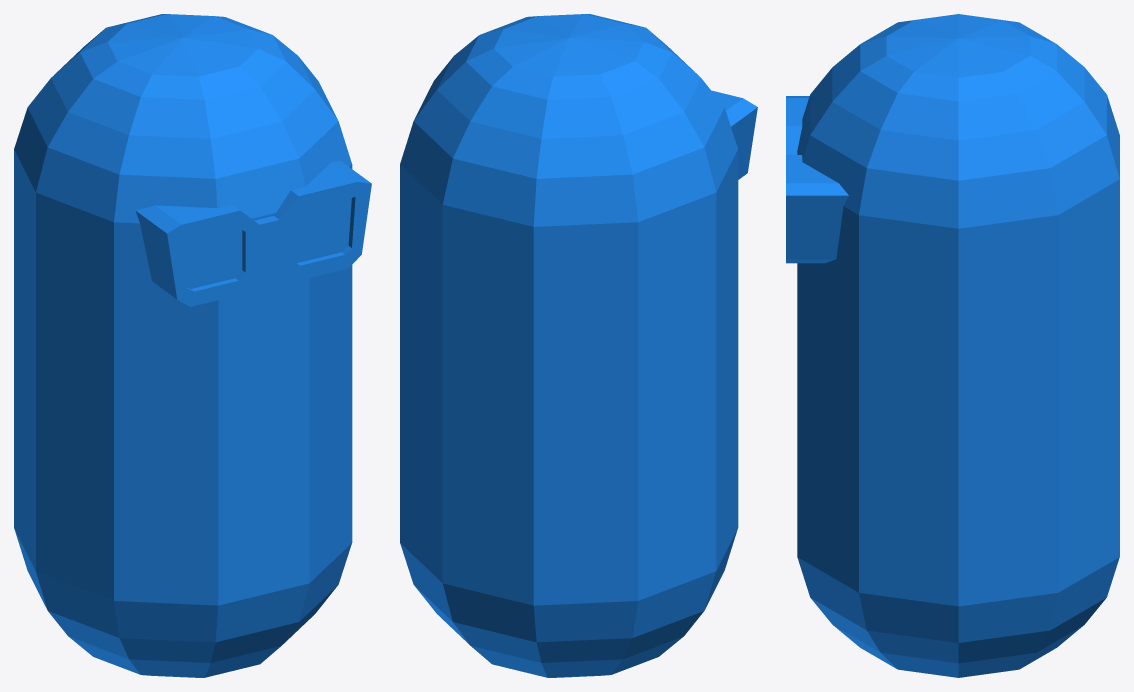
Rendered from Proto_Character_Capsule_Glasses_01.fbx.
3 views of the same model, side by side, from view 1: azimuth 30°, elevation 25°; view 2: azimuth 150°, elevation 25°; view 3: azimuth 270°, elevation 25° (orthographic).
Visible parts, largest first — view 1: Proto_Character_Capsule_Glasses_01; view 2: Proto_Character_Capsule_Glasses_01; view 3: Proto_Character_Capsule_Glasses_01.
Part boxes in pixels (box(x1,y1,x2,y2)): Proto_Character_Capsule_Glasses_01: box(14, 14, 371, 677); Proto_Character_Capsule_Glasses_01: box(400, 14, 757, 677); Proto_Character_Capsule_Glasses_01: box(786, 14, 1119, 677).
Bounding box in the file's own units: 0.75 × 1.5 × 0.7379.
